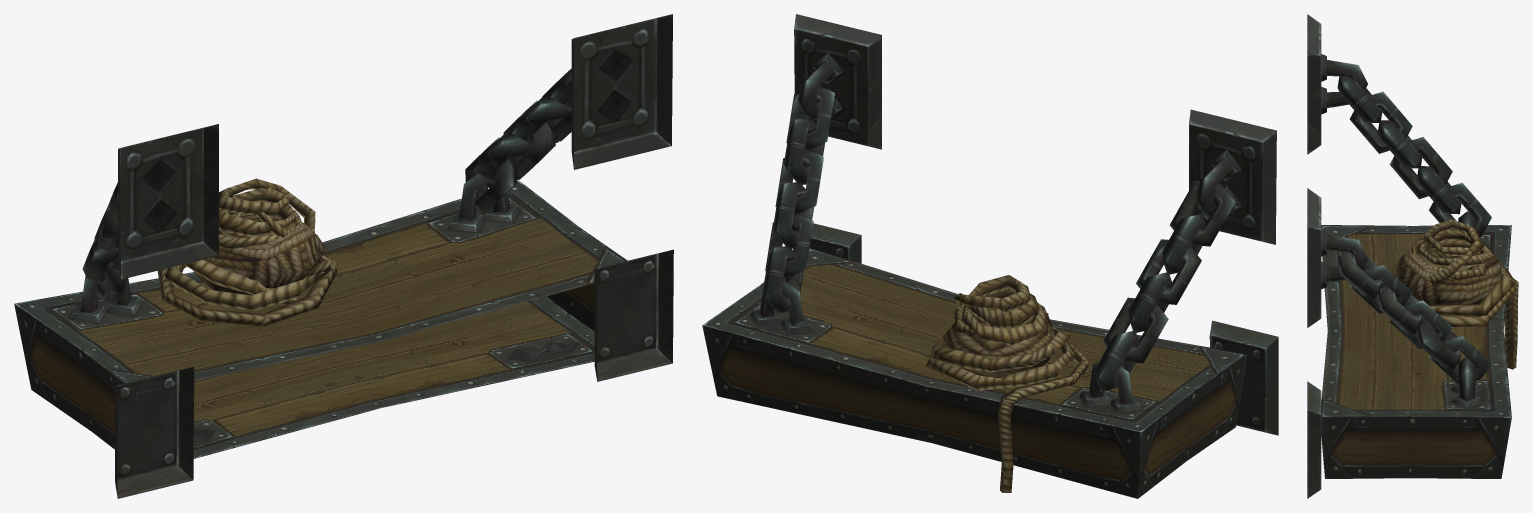
The model's file is jailchair.FBX.
3 views of the same model, side by side, from view 1: azimuth 30°, elevation 25°; view 2: azimuth 150°, elevation 25°; view 3: azimuth 270°, elevation 25° (orthographic). The views are drawn at different scales.
Parts seen in each view (by area): view 1: jailchair; view 2: jailchair; view 3: jailchair.
Part boxes in pixels (x1,y1,x2,y2): jailchair: [14, 14, 673, 498]; jailchair: [702, 14, 1278, 498]; jailchair: [1307, 14, 1518, 498].
Bounding box in the file's own units: 172 × 107 × 72.34.
